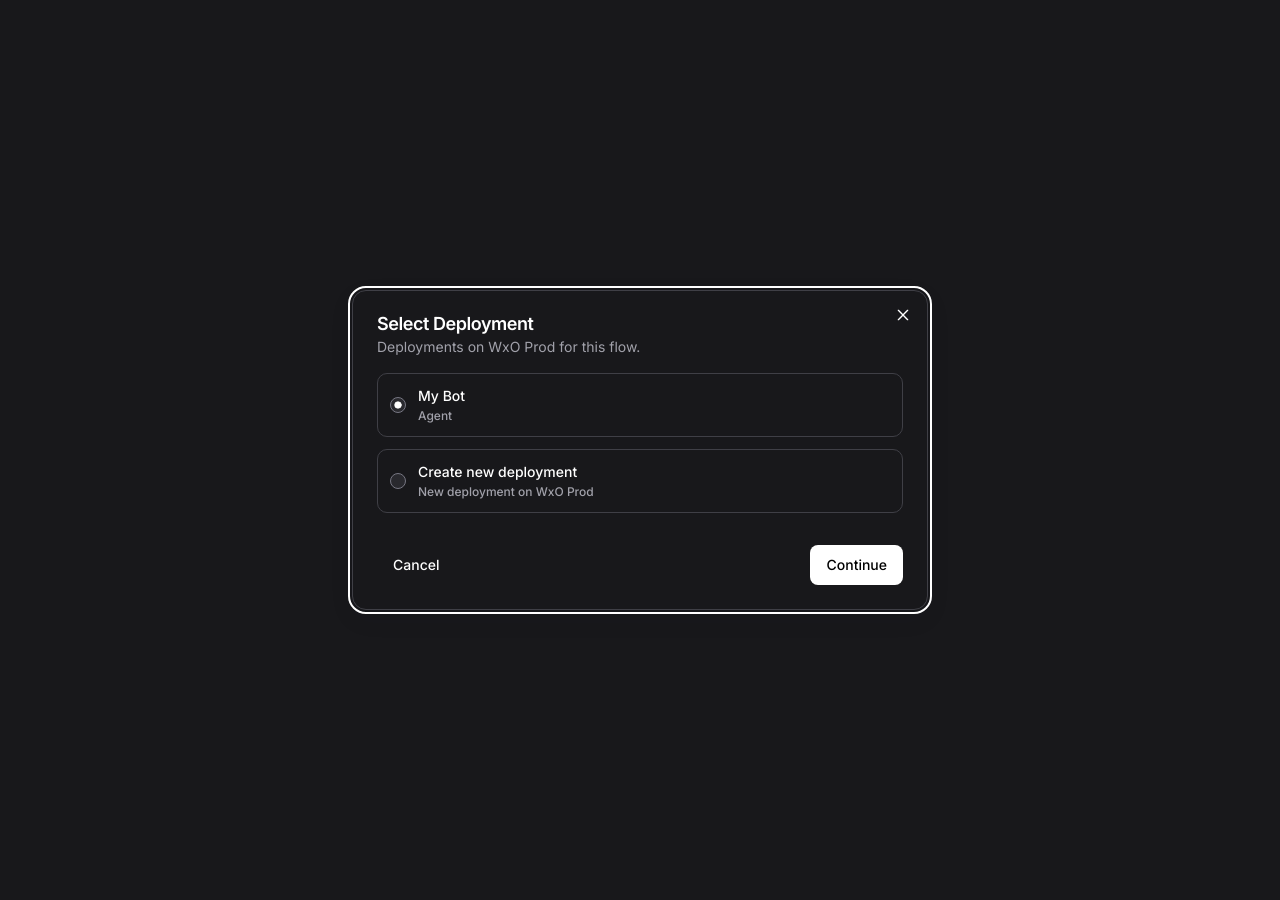
Scenario: DeployChoiceDialog — review phase › Back button returns to deployments phase
Click the button "Continue" at (857, 565), box [810,545,903,585]
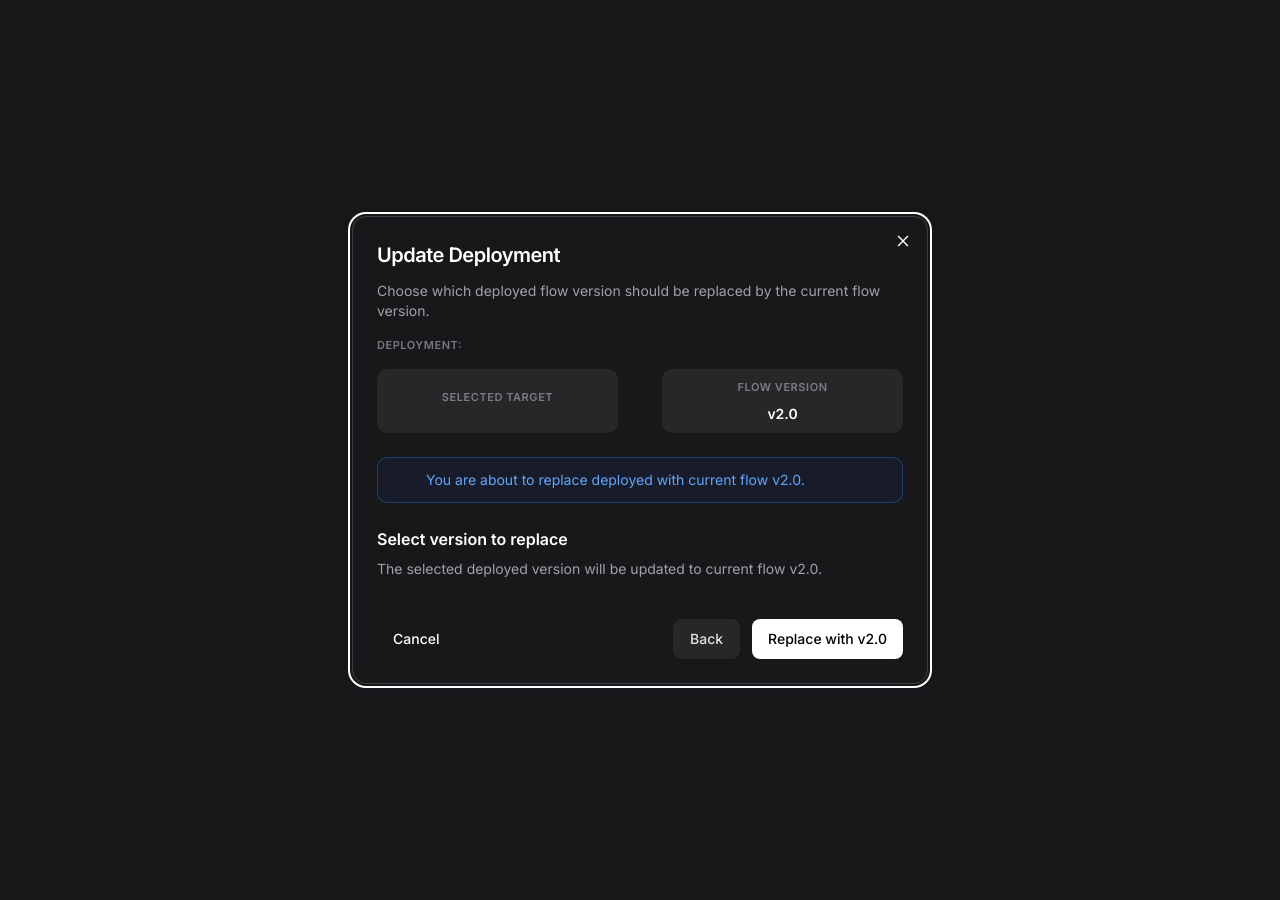
Expected: the heading "Update Deployment" is shown, [377,243,560,267]
Click the button "Back" at (707, 639), box [673,619,740,659]
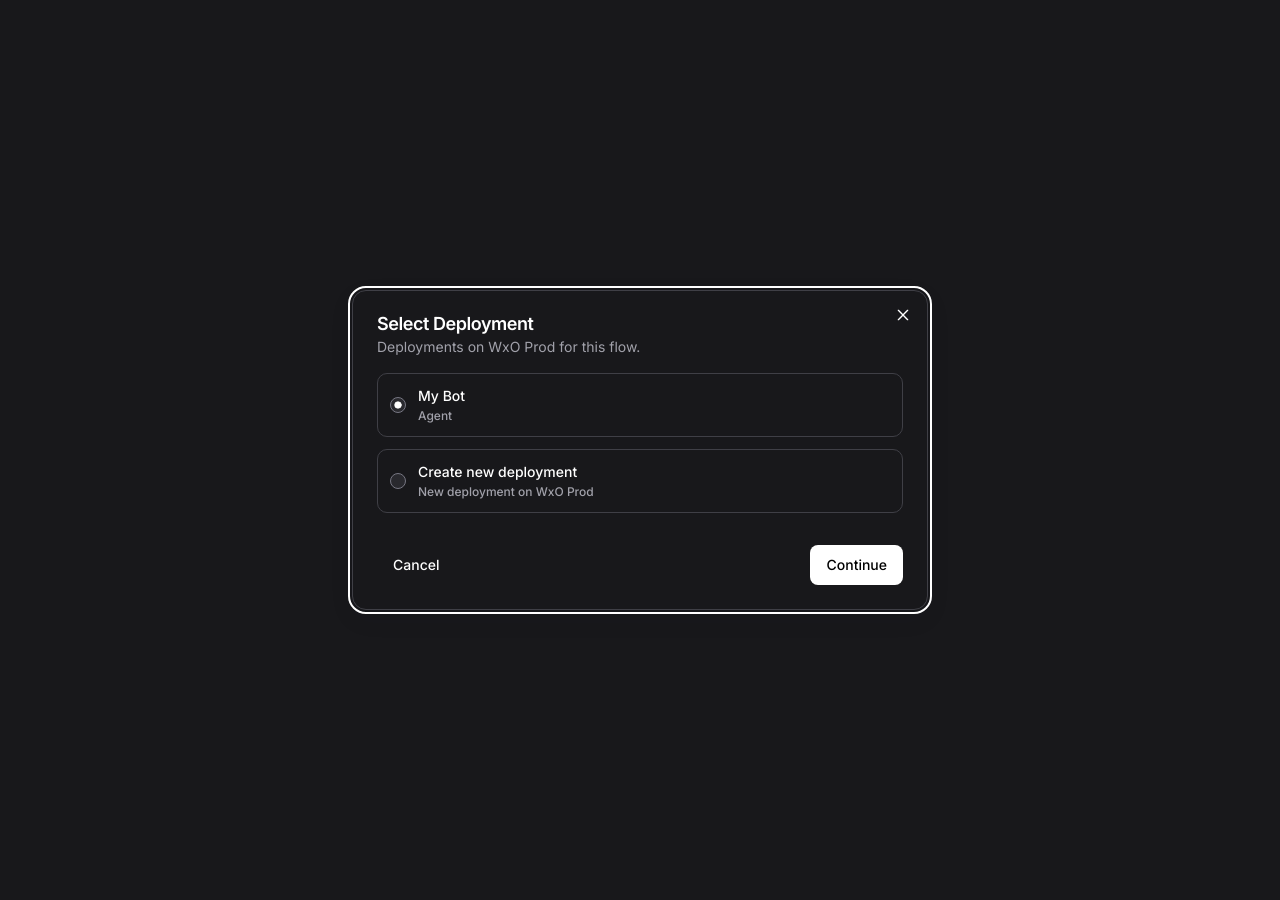
Expected: the heading "Select Deployment" is shown, [377,313,534,334]
